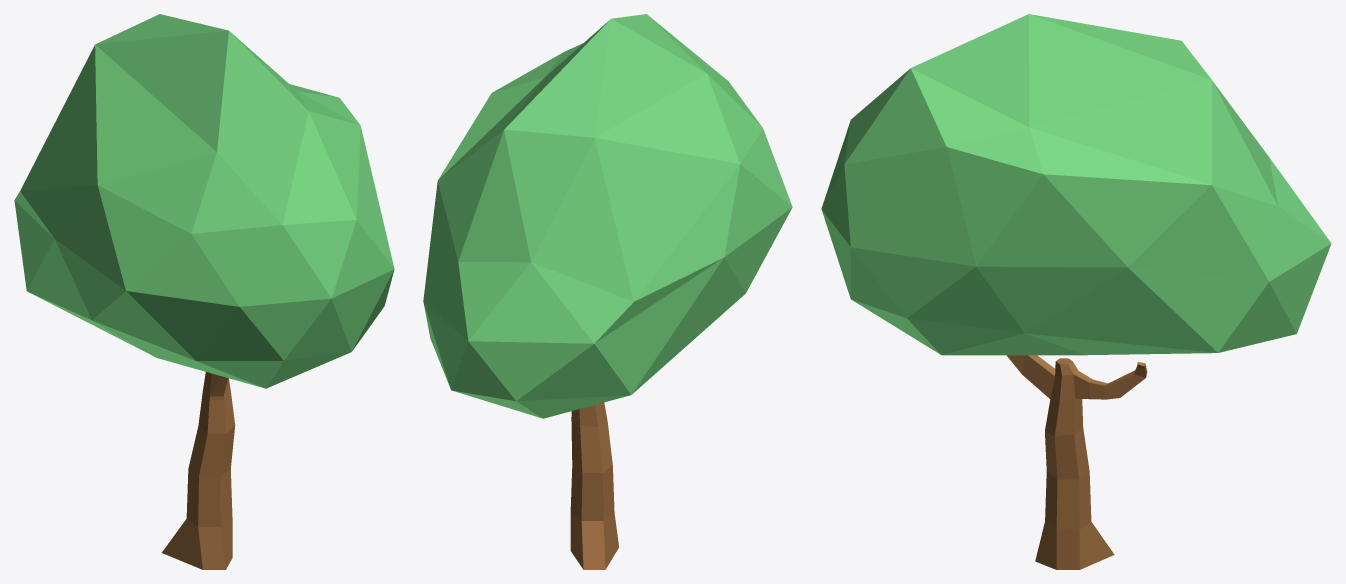
Rendered from tree2 color.fbx.
3 renders of one model, left to right at view 1: azimuth 30°, elevation 25°; view 2: azimuth 150°, elevation 25°; view 3: azimuth 270°, elevation 25°, orthographic. The views are drawn at different scales.
Visible parts, largest first — view 1: Icosphere.001, Cylinder.001; view 2: Icosphere.001, Cylinder.001; view 3: Icosphere.001, Cylinder.001.
Part boxes in pixels (x1,y1,x2,y2): Icosphere.001: [14, 14, 394, 388]; Cylinder.001: [162, 372, 235, 569]; Icosphere.001: [423, 14, 792, 418]; Cylinder.001: [570, 402, 618, 569]; Icosphere.001: [821, 14, 1331, 355]; Cylinder.001: [1007, 355, 1147, 569].
Size of the model in its own units: 266 by 521 by 440.
